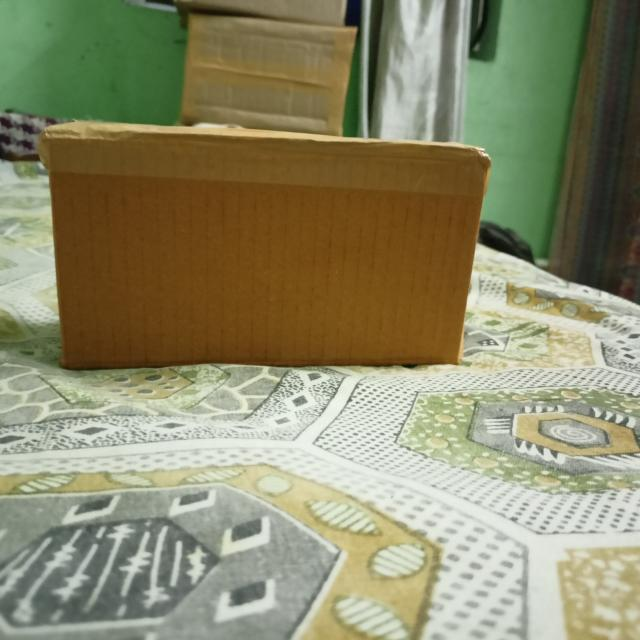box: (51, 135, 489, 368)
